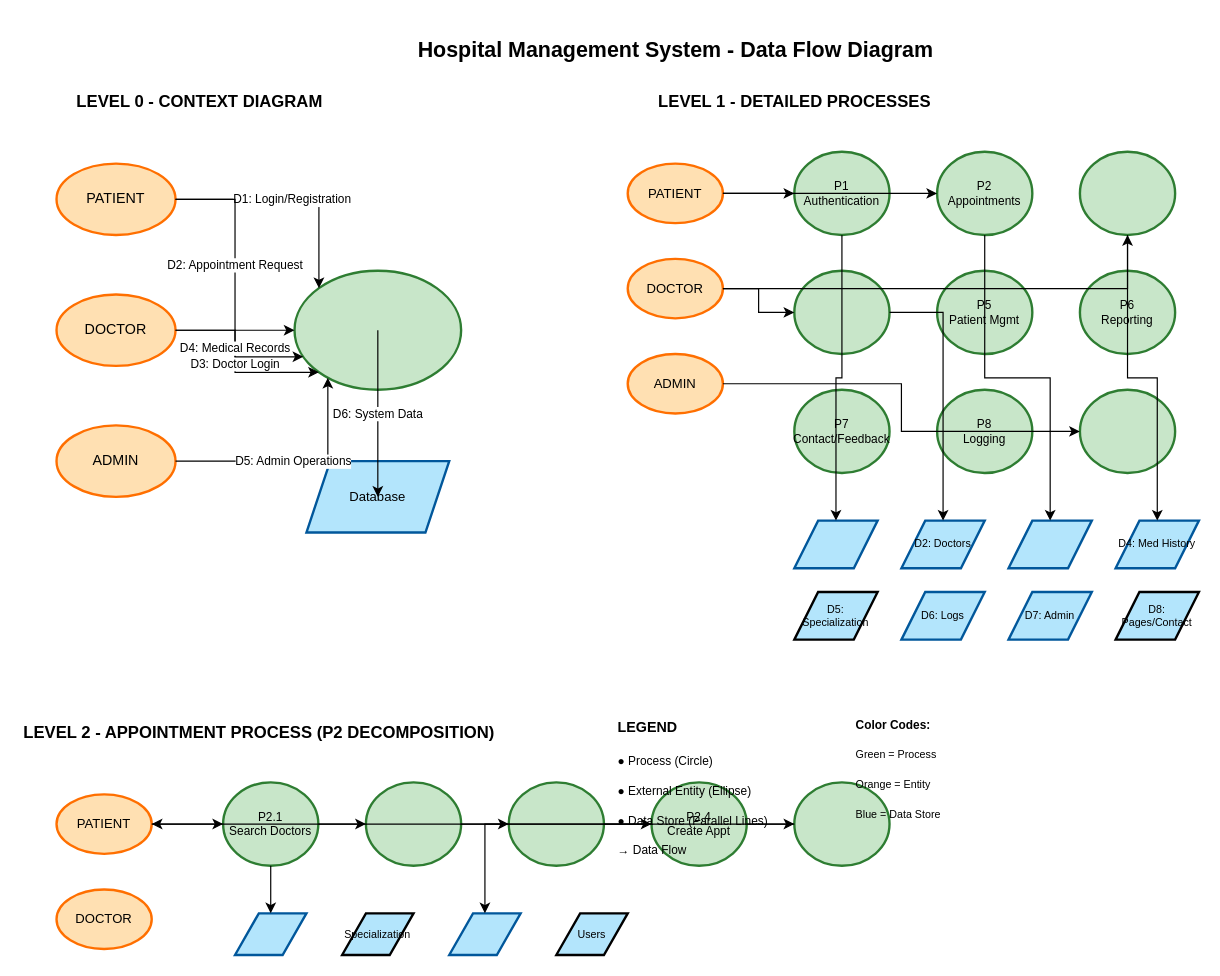
The diagram is 1220 pixels wide and 976 high, and some of its shapes have lost their labels. Here are the shapes that lost their labels. From the top down, the box of each, then its label:
(1078, 150, 1176, 236): P3 Medical Records
(293, 269, 462, 390): 0 Hospital Management System
(793, 269, 890, 355): P4 Doctor Mgmt
(1078, 388, 1176, 474): P9 Admin Control
(793, 519, 878, 569): D1: Users
(1007, 519, 1092, 569): D3: Appointments
(364, 781, 462, 866): P2.2 Validate Slot
(507, 781, 605, 866): P2.3 Calculate Fees
(793, 781, 890, 866): P2.5 Send Confirm
(233, 912, 307, 956): Doctors
(447, 912, 521, 956): Appointment
